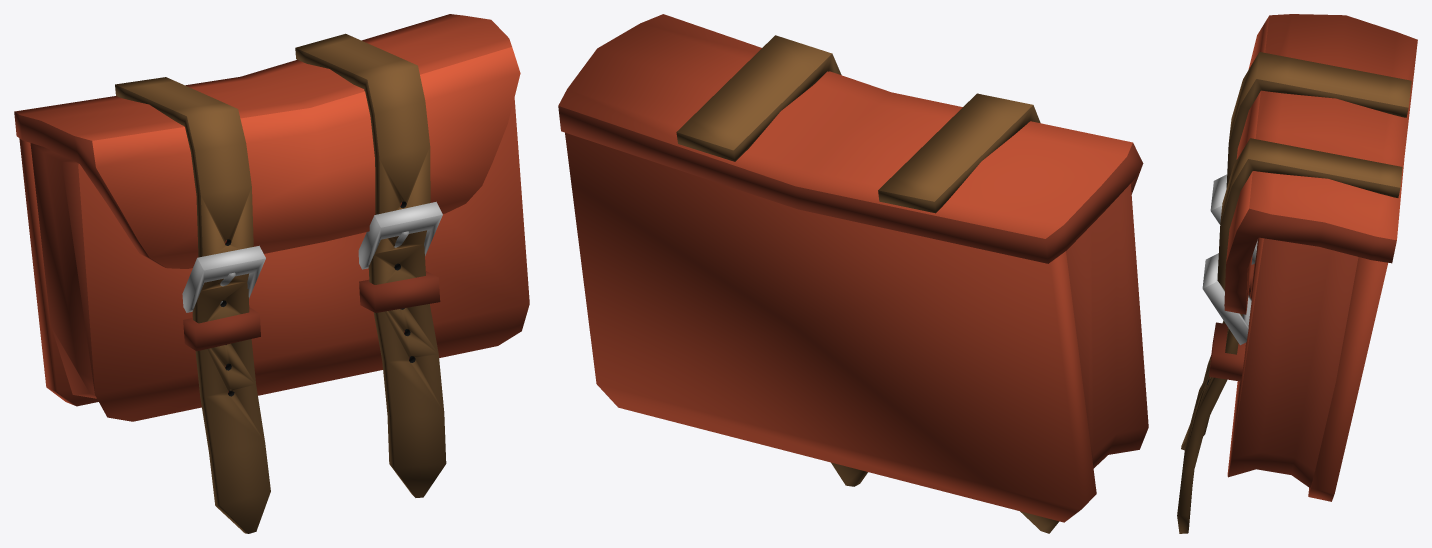
Rendered from SM_BackPack_43.fbx.
3 views of the same model, side by side, from view 1: azimuth 30°, elevation 25°; view 2: azimuth 150°, elevation 25°; view 3: azimuth 270°, elevation 25° (orthographic). The views are drawn at different scales.
Parts seen in each view (by area): view 1: SM_BackPack_43; view 2: SM_BackPack_43; view 3: SM_BackPack_43.
Part boxes in pixels (left/top/right/bottom): SM_BackPack_43: left=14, top=14, right=529, bottom=533; SM_BackPack_43: left=558, top=14, right=1148, bottom=533; SM_BackPack_43: left=1177, top=14, right=1417, bottom=533.
Bounding box in the file's own units: 107 × 93.06 × 52.2.
